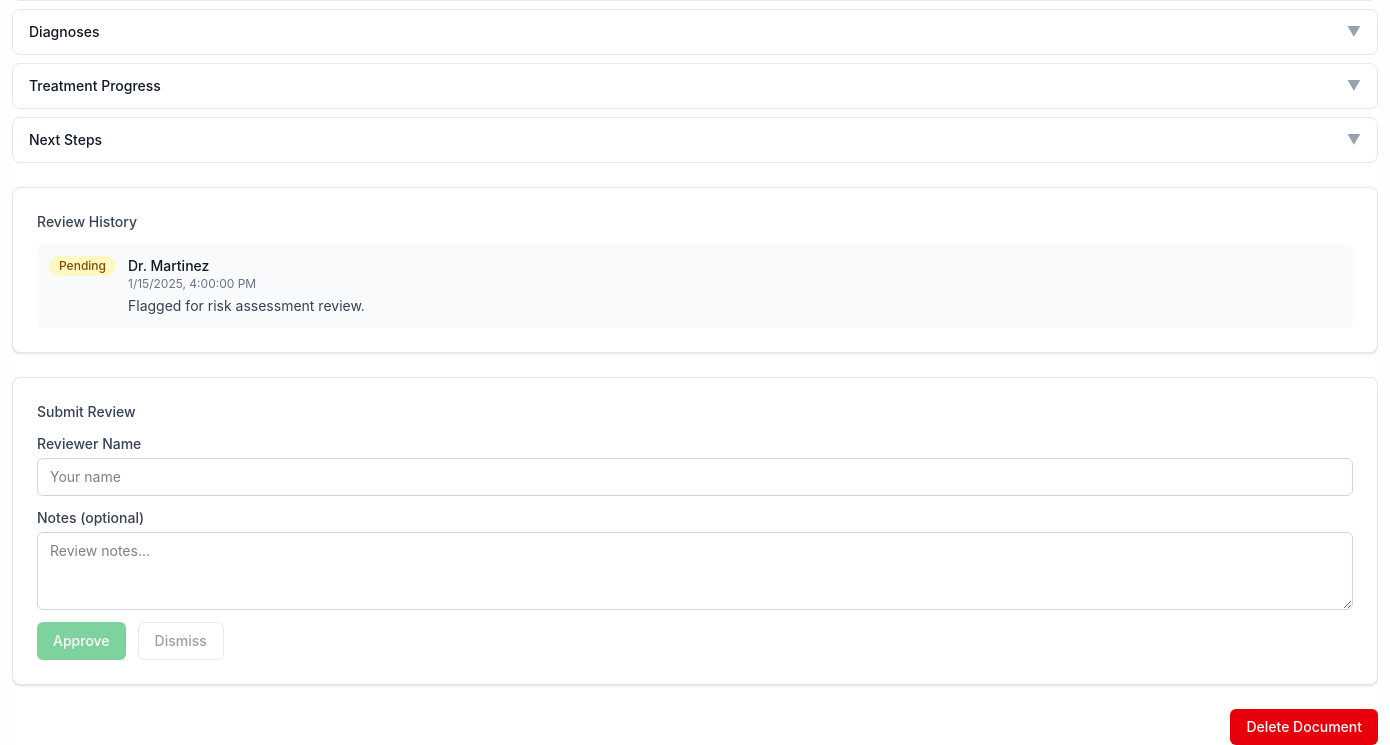
it: SessionDetail › shows error message on submission failure
(page scrolled)
Expected: the heading "Submit Review" is shown, [37,403,136,420]
Type "Dr. Test" into the field with placeholder "Your name" at (695, 477), box [37,458,1353,496]
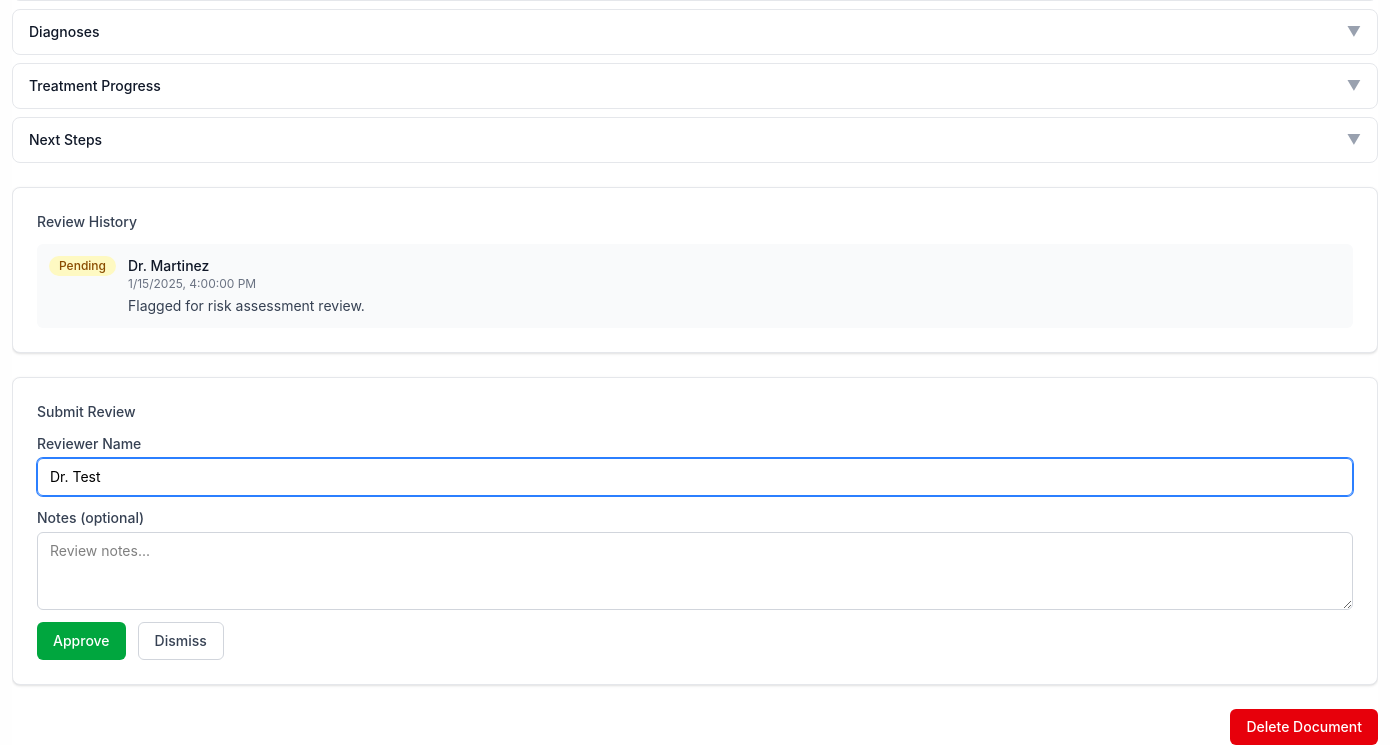
Click the button "Approve" at (81, 641), box [37,622,126,660]
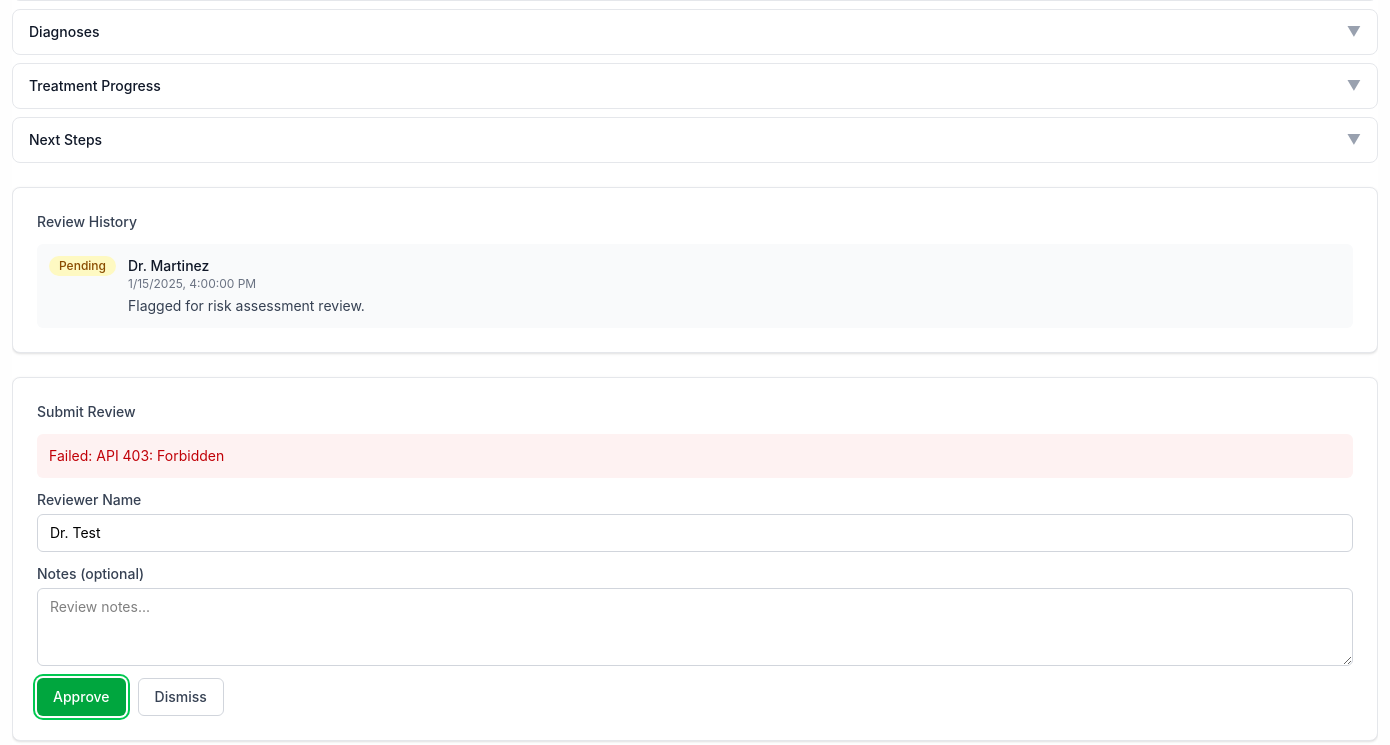
Expected: the text "Failed: API 403: Forbidden" is shown, [37,434,1353,478]
